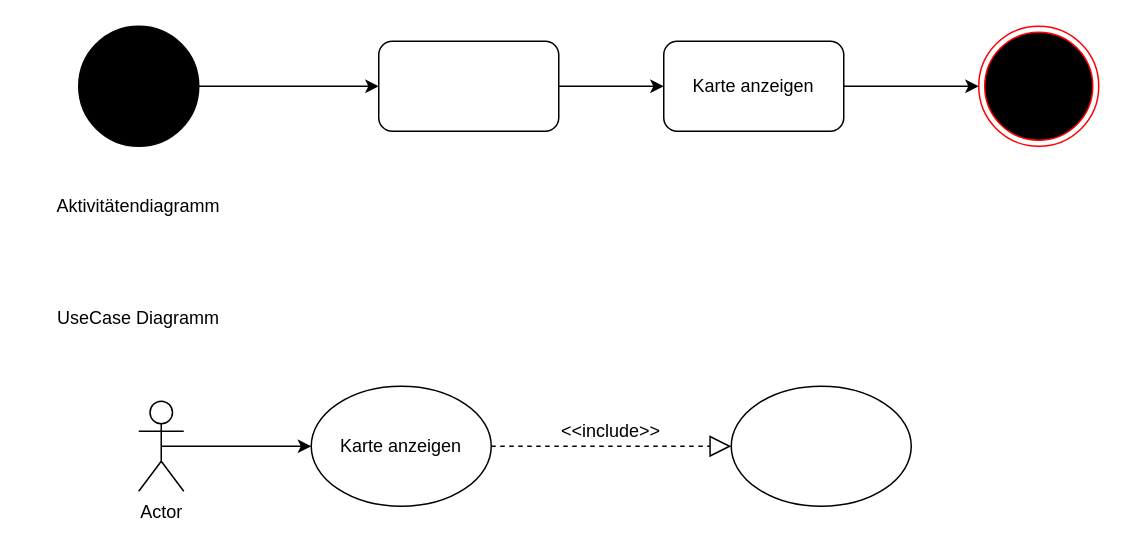
This 1125x549 diagram has some shape labels left out. Each missing label, with the centre of its shape:
Endstation eingeben: the point at 468,85
Startstation eingeben: the point at 820,445
